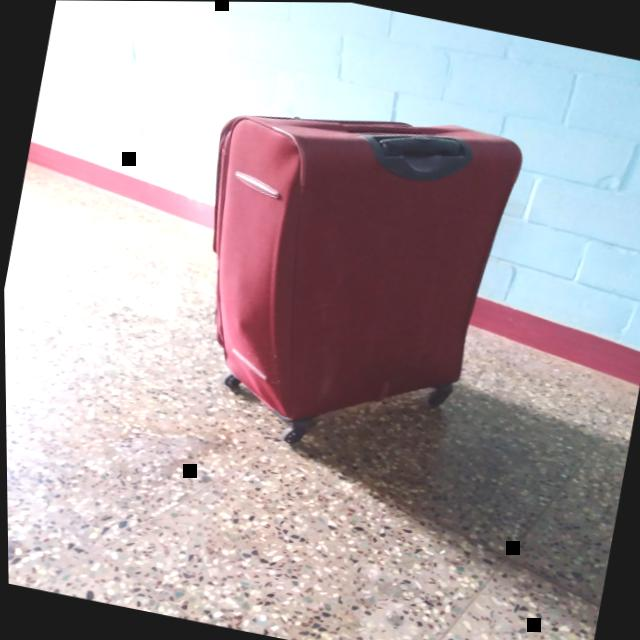luggage: (162, 73, 535, 463)
